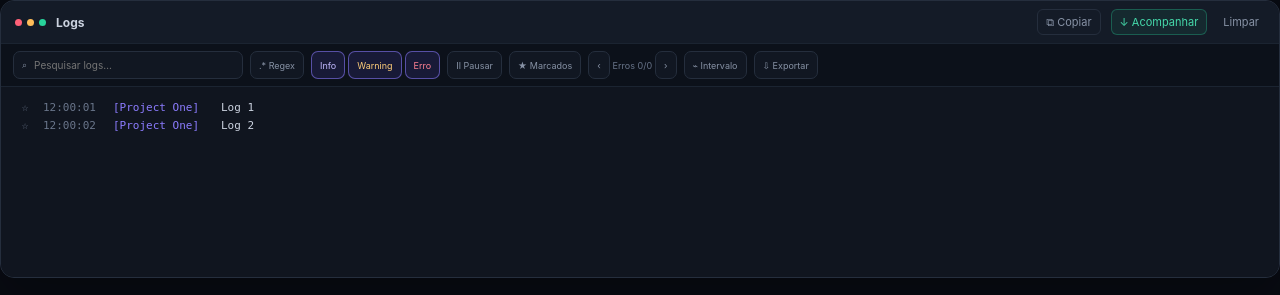
LogPanelComponent › copies all visible log content when there is no selection
This screenshot has width=1280, height=295.
Click the button with class "copy-logs" at (1069, 22), box [1037,9,1101,35]
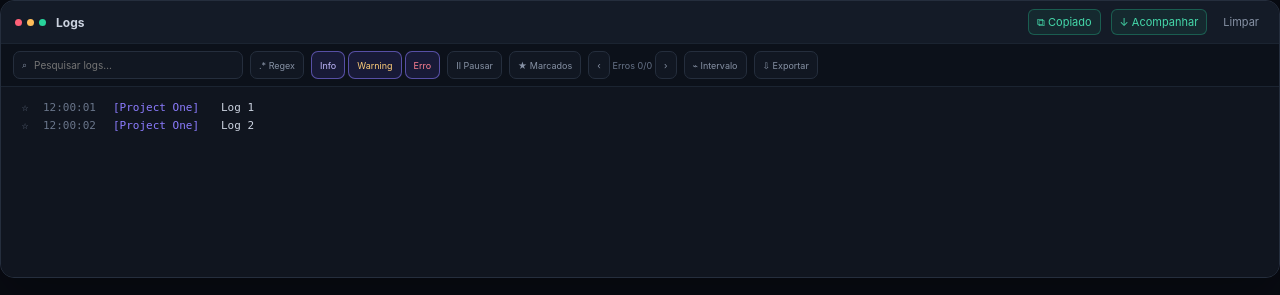
Expected: the button with class "copy-logs" shows "Copiado", [1028,9,1101,35]
